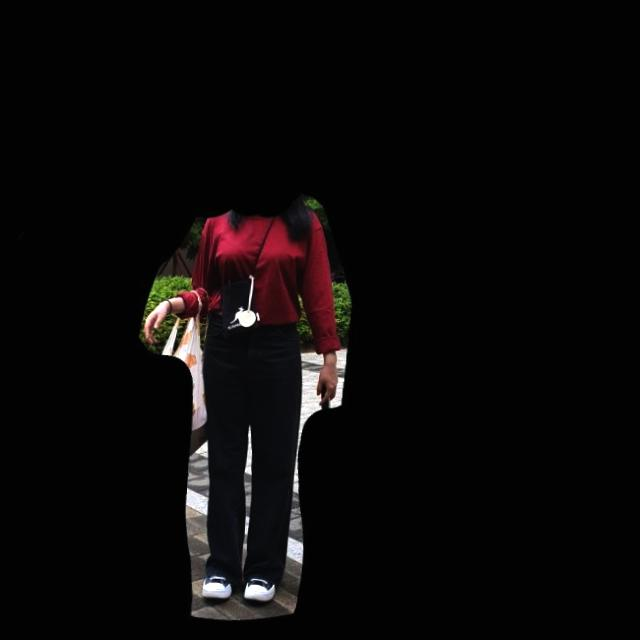denimpants: (192, 321, 306, 588)
longsleeve: (182, 204, 350, 355)
